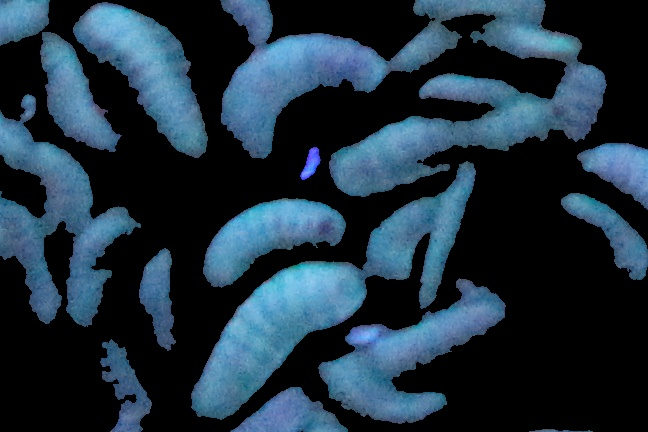larvae: (192, 259, 360, 420), (74, 7, 198, 153), (233, 37, 375, 141), (328, 121, 523, 195), (361, 292, 505, 376), (201, 200, 347, 282), (64, 209, 146, 322), (416, 167, 477, 313), (39, 33, 112, 153), (565, 190, 642, 292), (355, 192, 442, 282), (405, 27, 582, 67), (1, 201, 59, 318), (90, 329, 152, 432), (142, 251, 184, 400), (335, 376, 447, 427), (551, 67, 600, 165), (37, 144, 84, 237), (1, 1, 42, 99), (579, 144, 648, 201), (421, 72, 530, 104), (410, 1, 552, 23), (215, 1, 280, 40)
